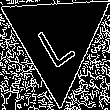L_NW: (33, 9, 81, 69)
